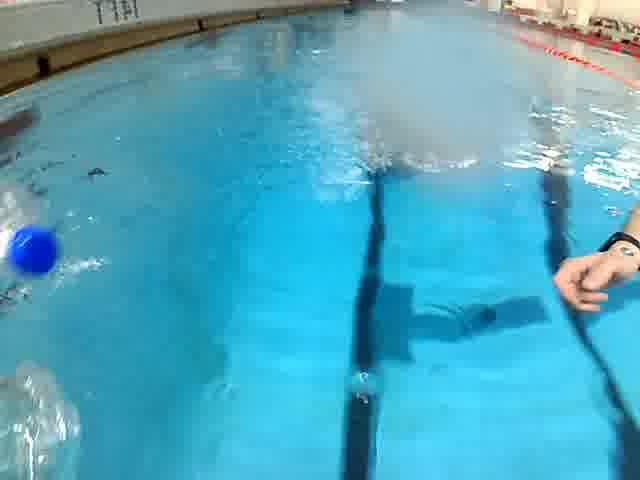Bottle: (0, 352, 104, 480), (0, 156, 82, 295)
